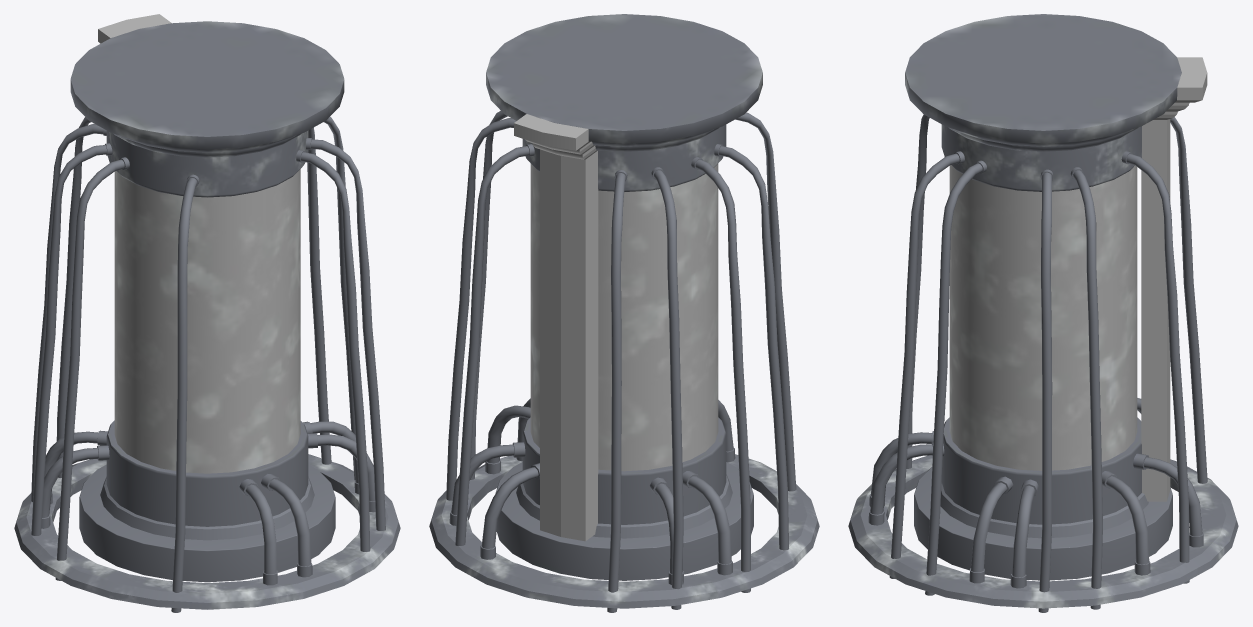
File: monster_capsule_m.fbx
The picture shows the model from 3 angles, left to right: view 1: azimuth 30°, elevation 25°; view 2: azimuth 150°, elevation 25°; view 3: azimuth 270°, elevation 25°; orthographic projection.
Parts seen in each view (by area): view 1: monster_capsule_m; view 2: monster_capsule_m; view 3: monster_capsule_m.
Part boxes in pixels (<box>): monster_capsule_m: <box>14,14,400,612</box>; monster_capsule_m: <box>429,14,819,612</box>; monster_capsule_m: <box>848,14,1238,612</box>.
Size of the model in its own units: 414 by 542 by 414.
1 material, 1 textured.
